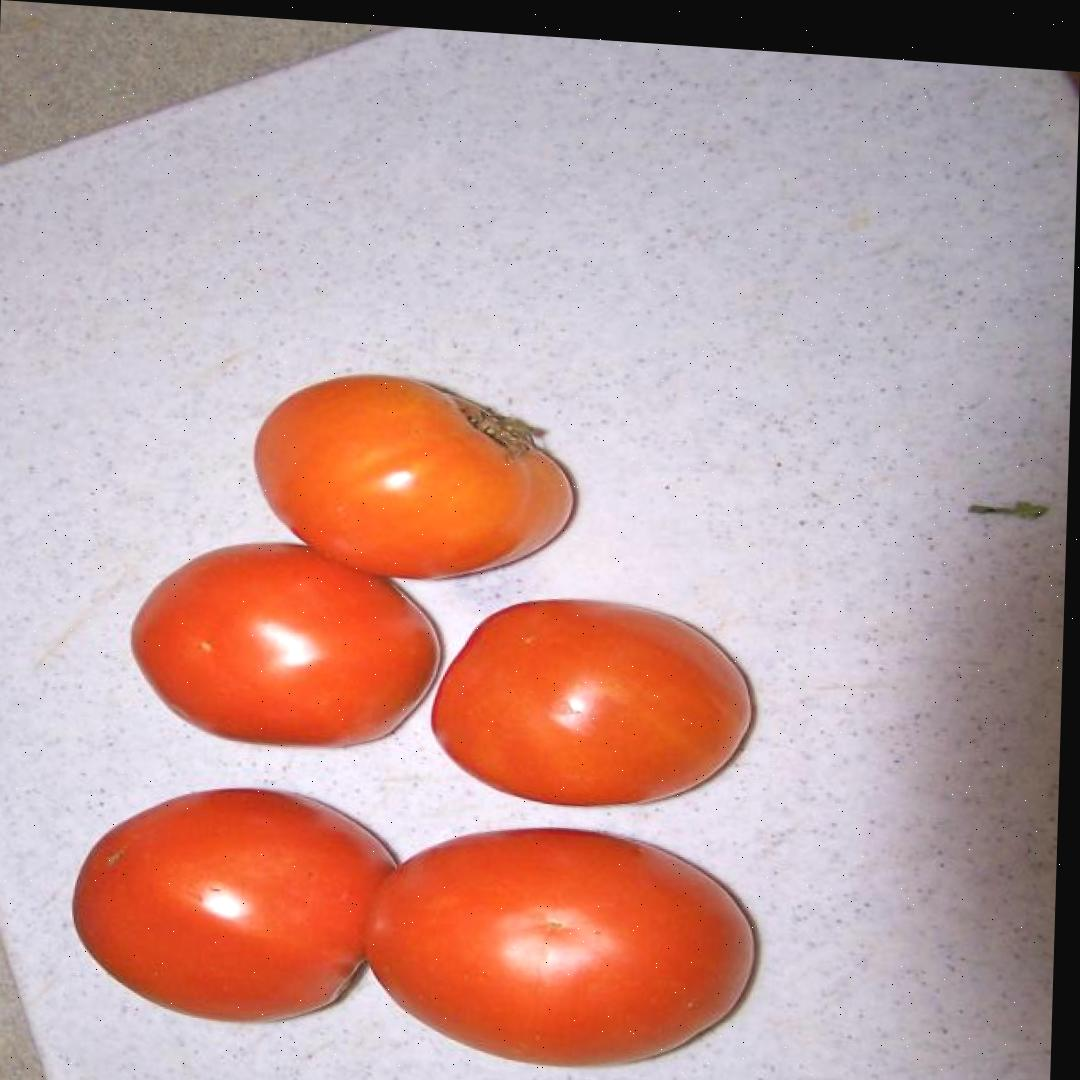matang: (354, 815, 759, 1080), (68, 777, 403, 1034), (426, 589, 753, 821), (247, 368, 577, 590), (126, 532, 444, 758)
